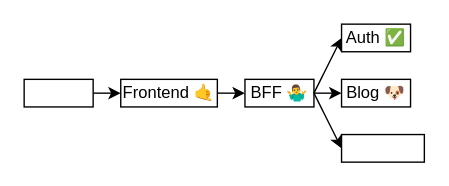
Some shapes in this 449 by 186 pixel diagram are drawn without their labels. The shapes that lost their labels are listed below. From the top down, each one's centre as x and y in pixels, then its label:
At point (58, 92): "User 😀".
At point (382, 147): "Mailer 📧".
